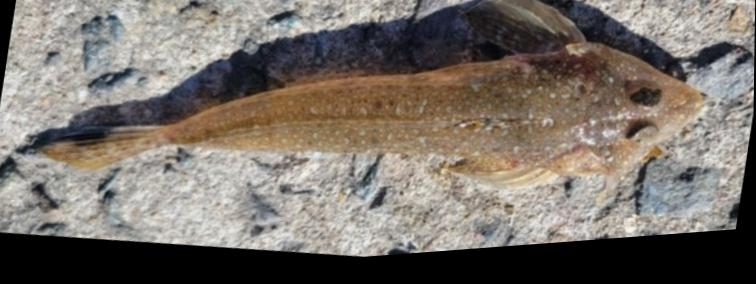fish: (39, 1, 707, 197)
